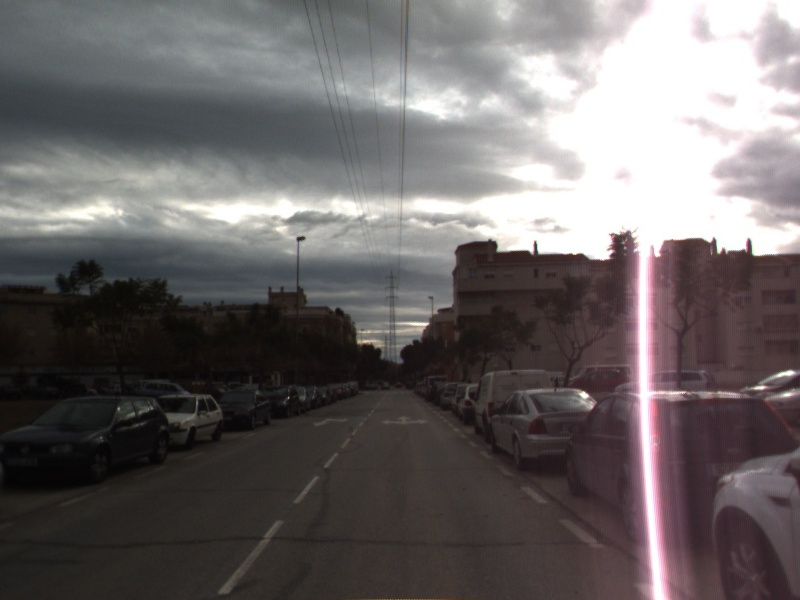STRAIGHT_LEFT_RIGHT: (379, 413, 430, 427)
